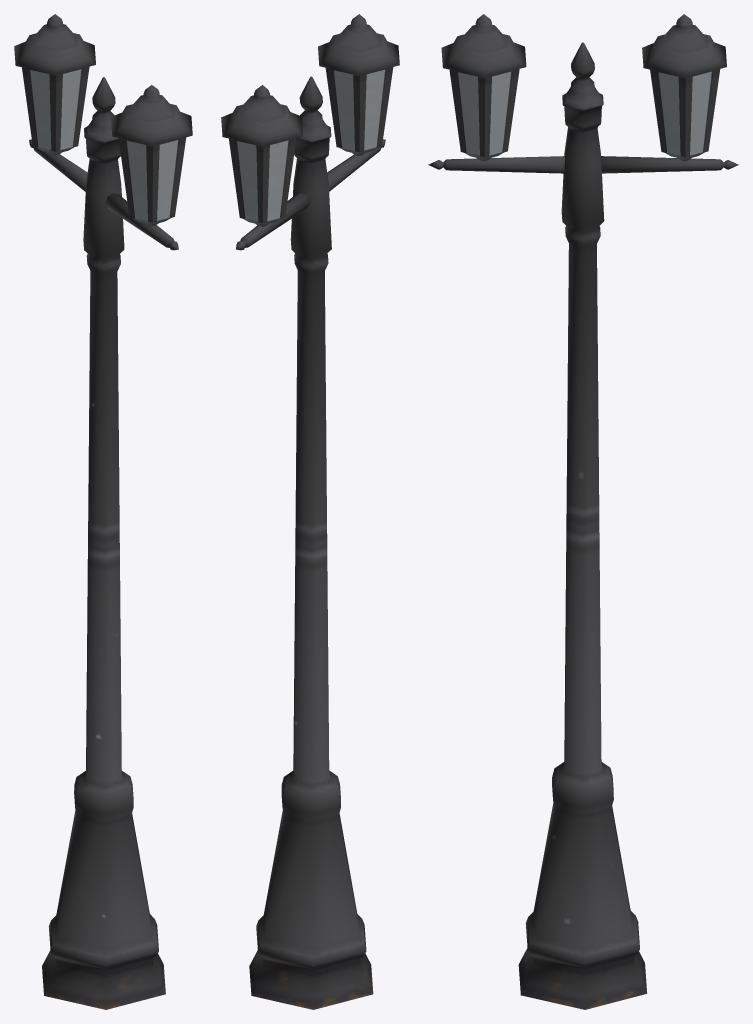
File: StreetLantern.fbx
The picture shows the model from 3 angles, left to right: view 1: azimuth 30°, elevation 25°; view 2: azimuth 150°, elevation 25°; view 3: azimuth 270°, elevation 25°; orthographic projection. The views are drawn at different scales.
Visible parts, largest first — view 1: Lamp_Metal, Lamp_Glass; view 2: Lamp_Metal, Lamp_Glass; view 3: Lamp_Metal, Lamp_Glass.
Part boxes in pixels (box(x1,y1,x2,y2)): Lamp_Metal: box(14, 14, 192, 1009); Lamp_Glass: box(30, 69, 177, 220); Lamp_Metal: box(221, 14, 399, 1009); Lamp_Glass: box(237, 69, 384, 221); Lamp_Metal: box(428, 14, 738, 1009); Lamp_Glass: box(458, 71, 711, 155).
Bounding box in the file's own units: 48.15 × 351 × 103.
